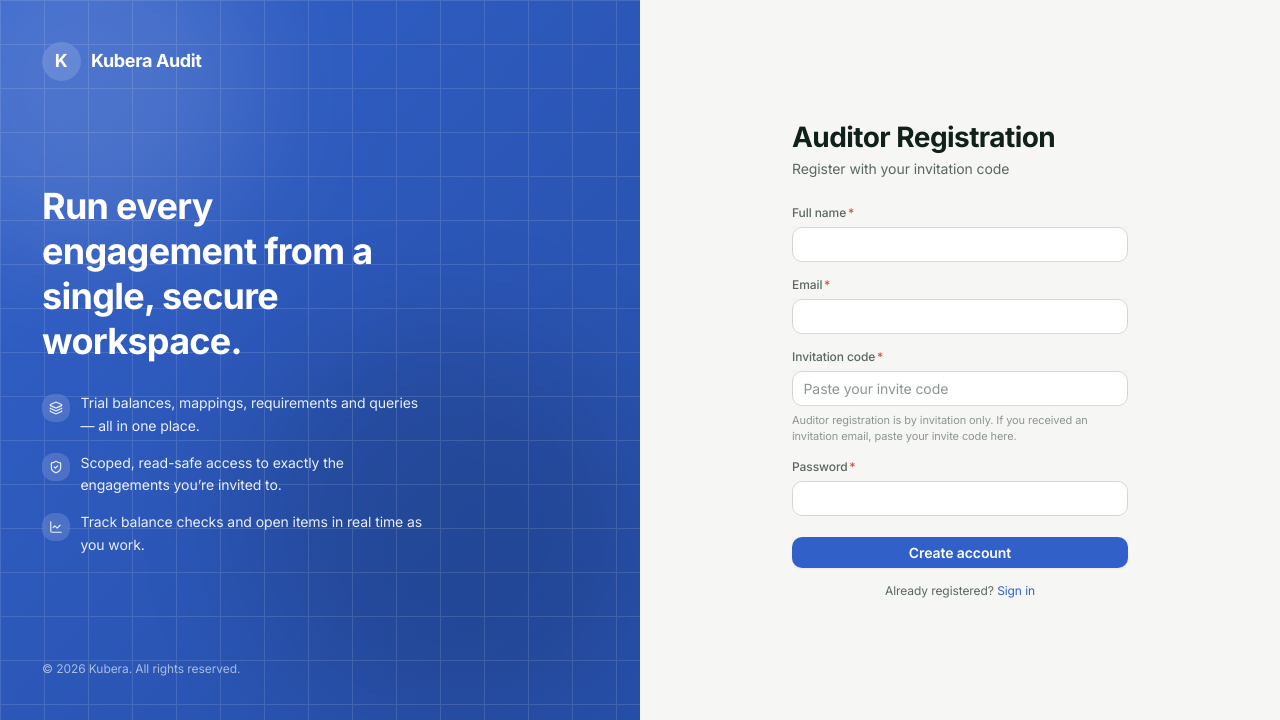
AuditorRegister Form and Validation › shows validation error when invitation code is missing
The width and height of the screenshot is (1280, 720).
Type "Auditor" into the field labelled "Full name*".
click(960, 244); type("Auditor")  # box top-left (792, 227), bottom-right (1128, 262)
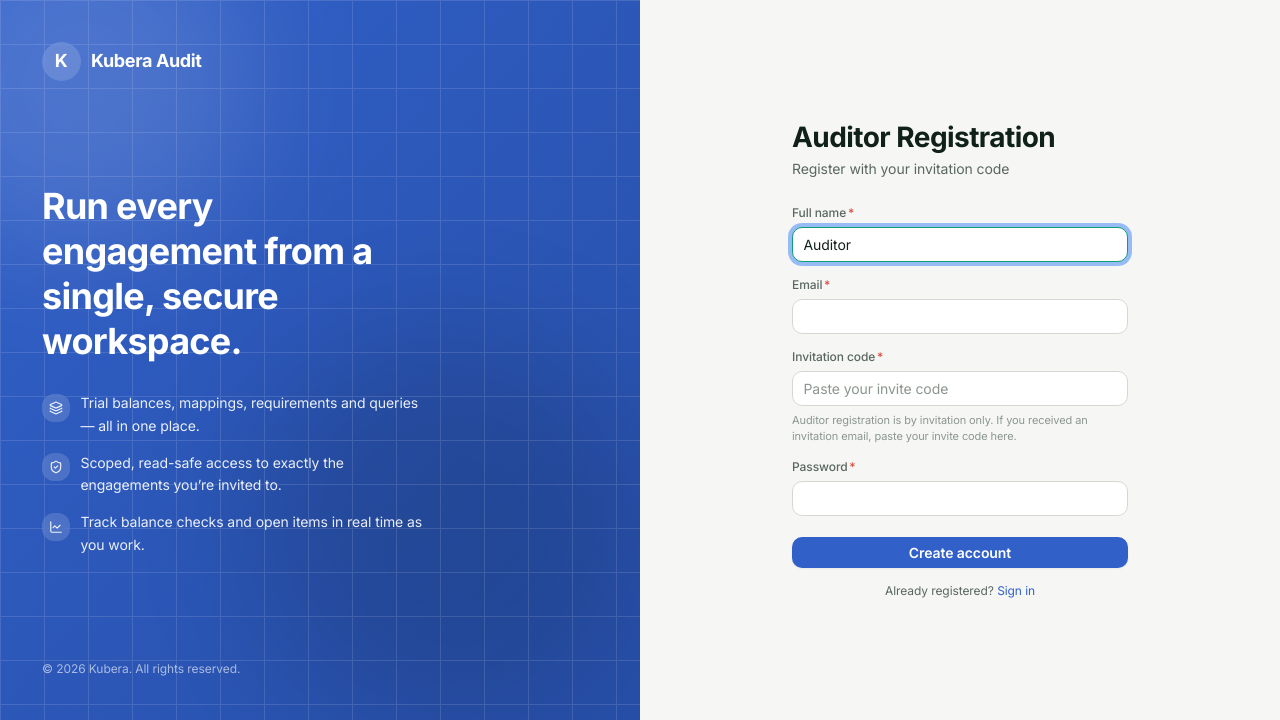
Type "auditor@test.test" into the field labelled "Email*".
click(960, 316); type("auditor@test.test")  # box top-left (792, 299), bottom-right (1128, 334)
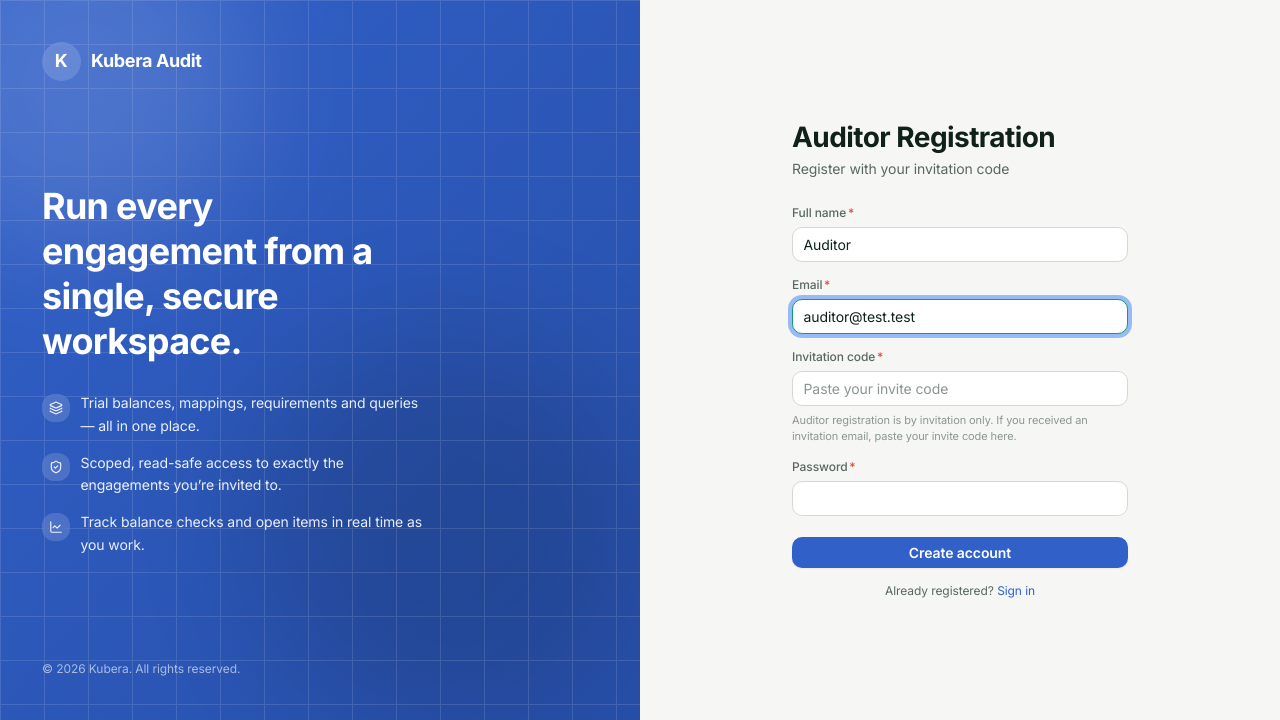
Type "Valid1!Pass" into the password field labelled "Password*".
click(960, 498); type("Valid1!Pass")  # box top-left (792, 481), bottom-right (1128, 516)
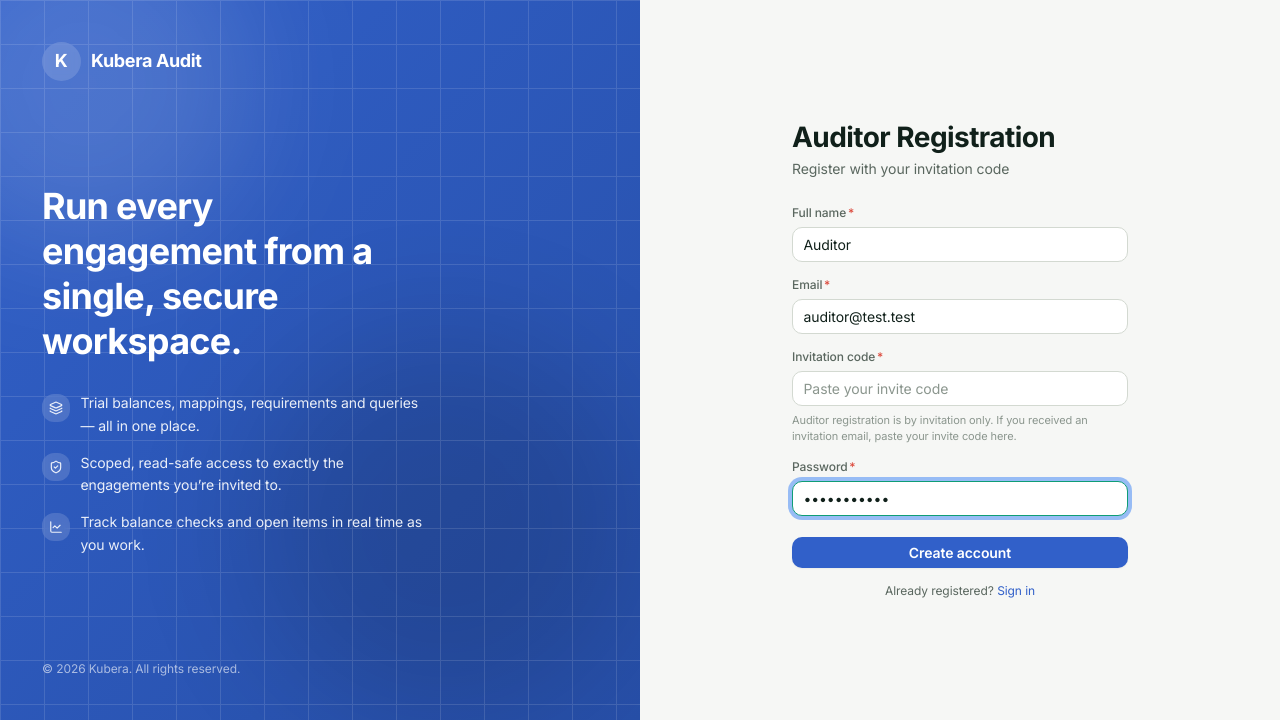
Click the button "Create account".
click(960, 553)  # box top-left (792, 537), bottom-right (1128, 568)
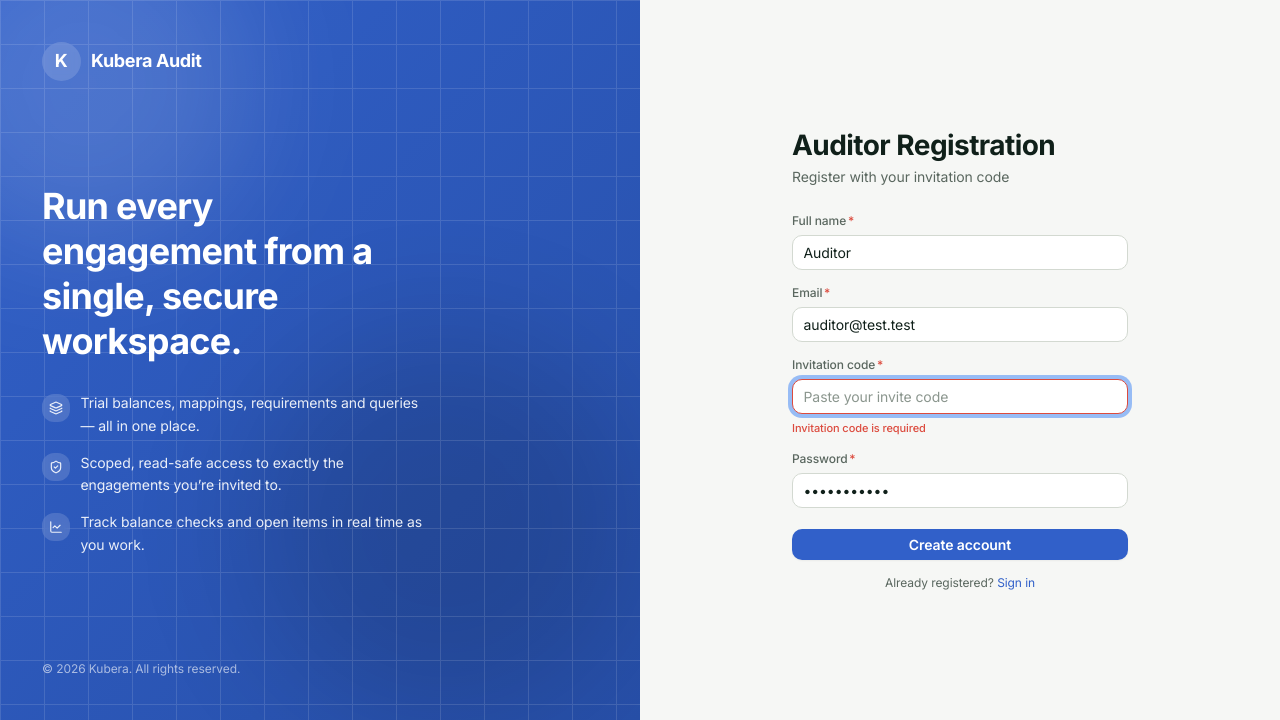
Expected: the text "Invitation code is required" is shown, top-left (792, 420), bottom-right (926, 434)
